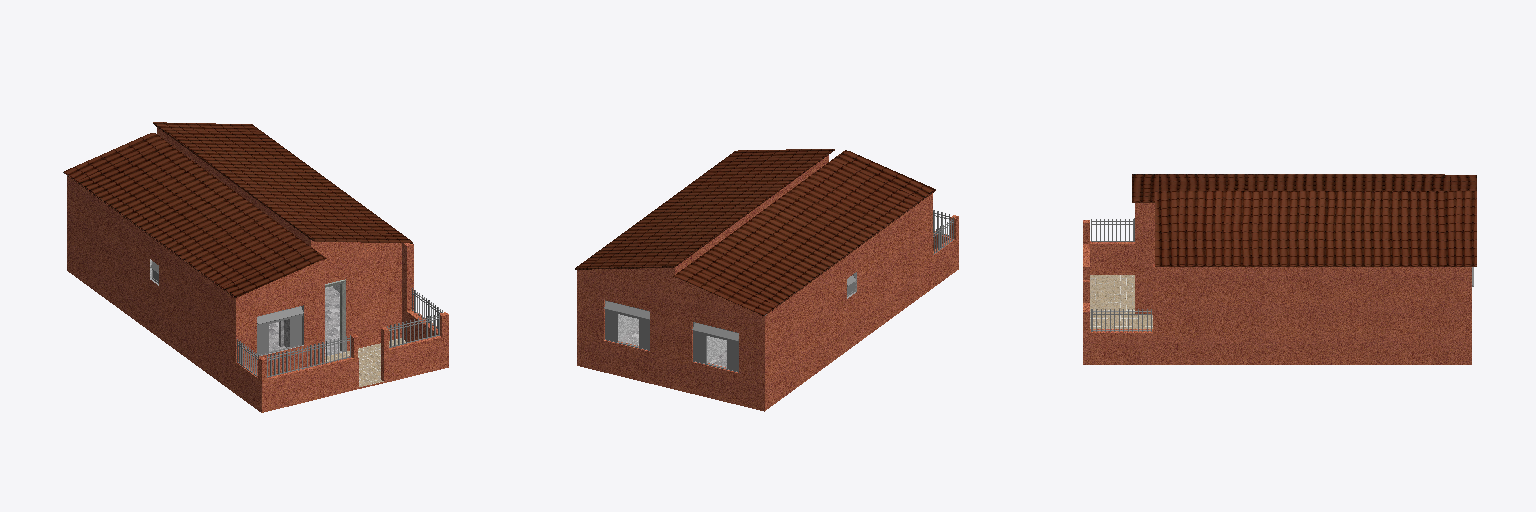
3 renders of one model, left to right at view 1: azimuth 30°, elevation 25°; view 2: azimuth 150°, elevation 25°; view 3: azimuth 270°, elevation 25°, orthographic.
Parts seen in each view (by area): view 1: HOUSE3; view 2: HOUSE3; view 3: HOUSE3.
Part boxes in pixels (left/top/right/bottom): HOUSE3: left=63, top=122, right=448, bottom=412; HOUSE3: left=575, top=149, right=958, bottom=411; HOUSE3: left=1083, top=174, right=1476, bottom=364.
Size of the model in its own units: 232 by 146 by 417.
Materials: 9 (7 with a texture image).